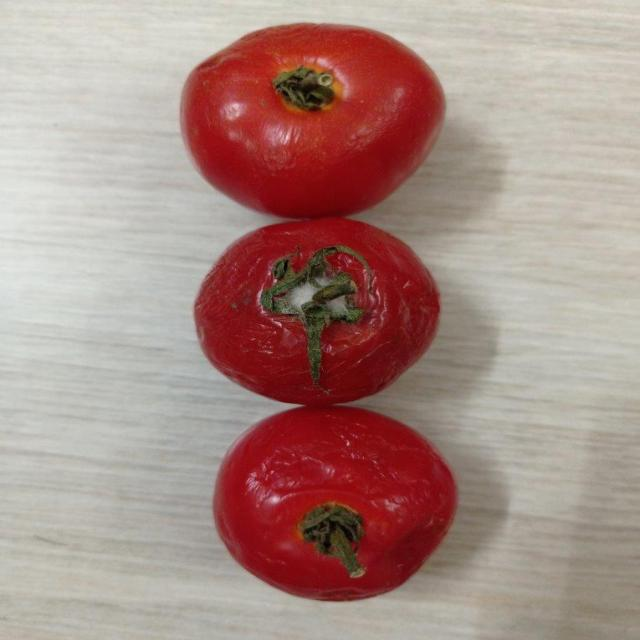overripe: (179, 19, 446, 208), (209, 408, 463, 602), (192, 217, 449, 406)
